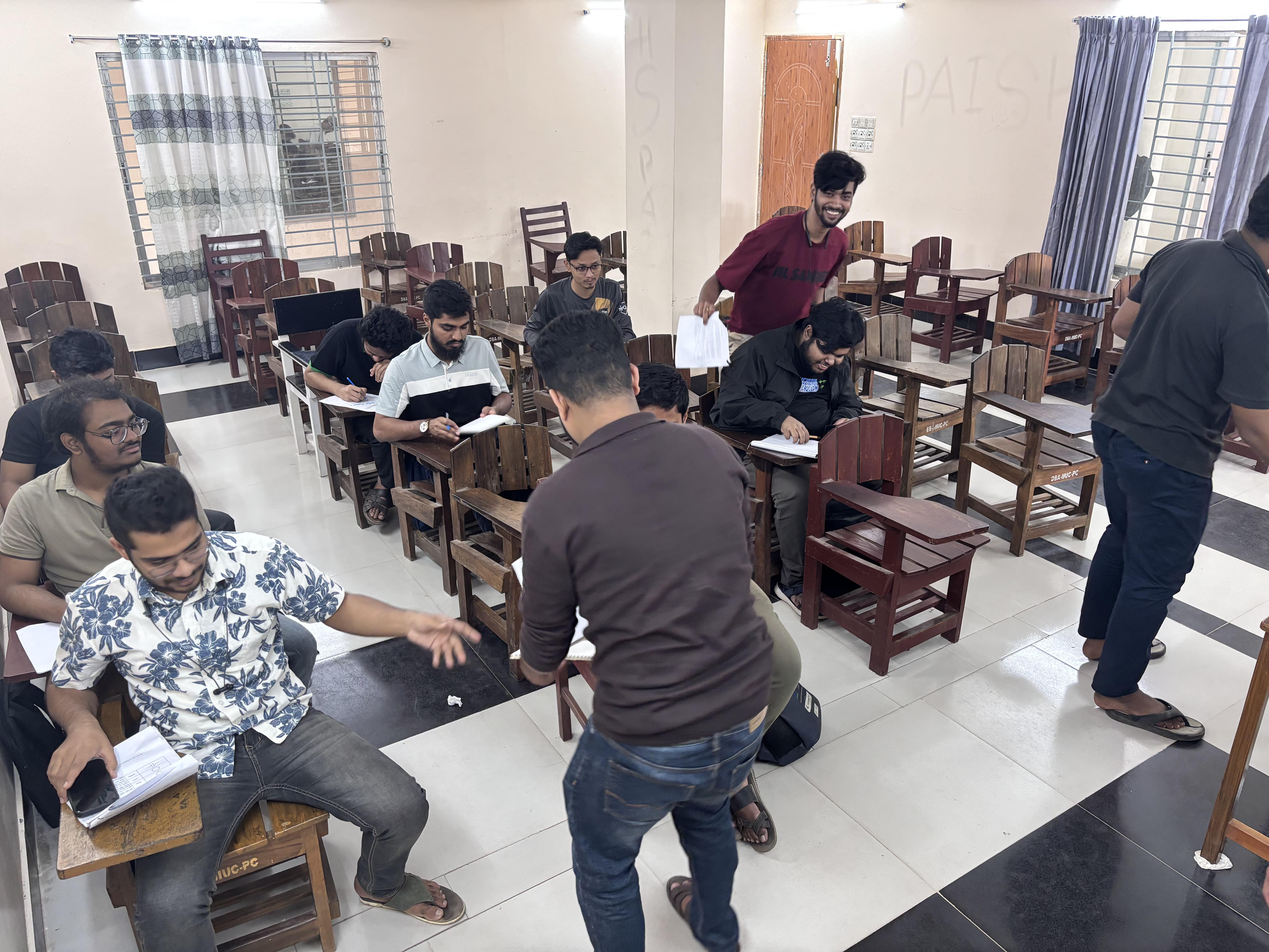invigilator: (518, 309, 756, 938)
no_cheating: (14, 383, 147, 621), (738, 289, 872, 496), (397, 272, 518, 473), (304, 308, 422, 444), (527, 227, 646, 351)
suspicious_moving: (684, 136, 868, 331)
using_phone: (61, 473, 261, 852)
